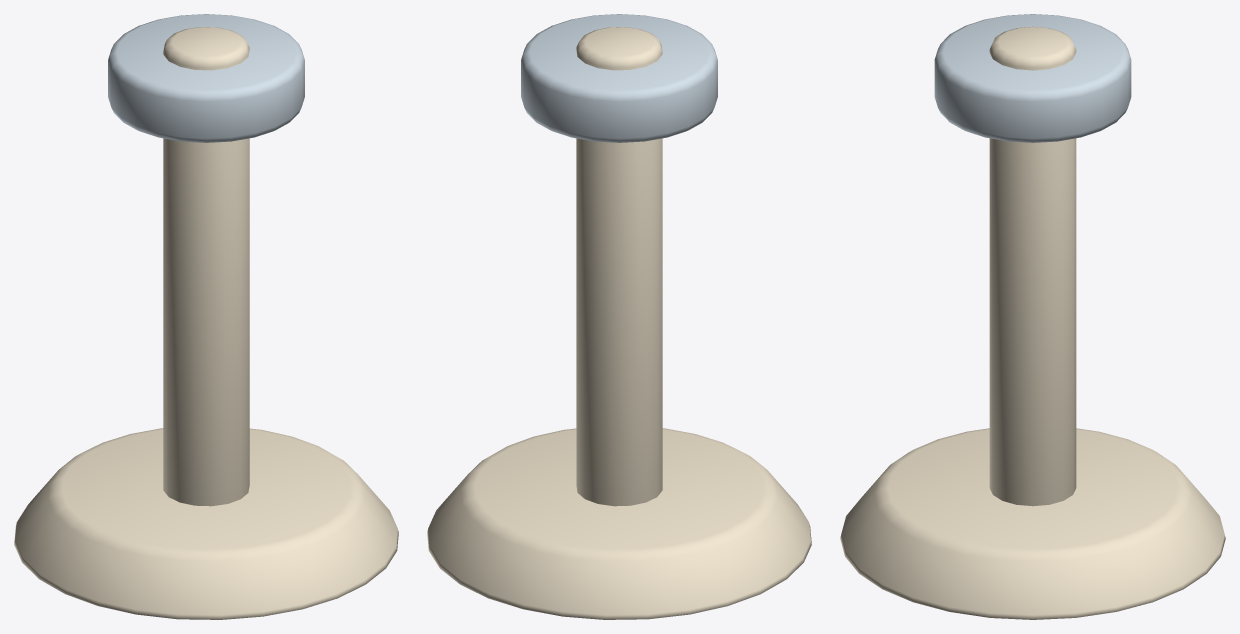
File: scale_stand.glb
The picture shows the model from 3 angles, left to right: view 1: azimuth 30°, elevation 25°; view 2: azimuth 150°, elevation 25°; view 3: azimuth 270°, elevation 25°; orthographic projection.
Parts seen in each view (by area): view 1: Stand_Body, Stand_Cap; view 2: Stand_Body, Stand_Cap; view 3: Stand_Body, Stand_Cap.
Part boxes in pixels (box(x1,y1,x2,y2)): Stand_Body: box(14, 27, 398, 619); Stand_Cap: box(108, 14, 304, 142); Stand_Body: box(427, 27, 811, 619); Stand_Cap: box(521, 14, 717, 142); Stand_Body: box(840, 26, 1225, 619); Stand_Cap: box(934, 14, 1131, 142).
Bounding box in the file's own units: 0.6659 × 0.95 × 0.6659.
